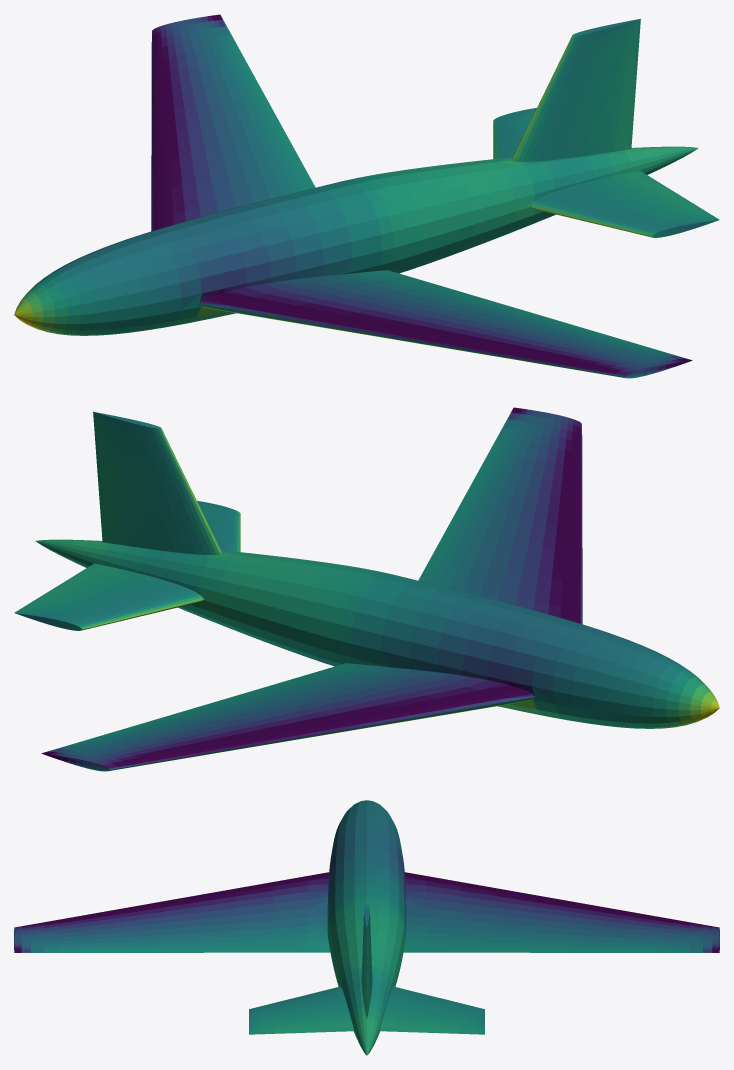
The model's file is case_5.glb.
The picture shows the model from 3 angles, top to bottom: view 1: azimuth 30°, elevation 25°; view 2: azimuth 150°, elevation 25°; view 3: azimuth 270°, elevation 25°; orthographic projection. The views are drawn at different scales.
Visible parts, largest first — view 1: Shape_IndexedFaceSet; view 2: Shape_IndexedFaceSet; view 3: Shape_IndexedFaceSet.
Boxes of the visible parts, x1,y1,x2,y2 form: Shape_IndexedFaceSet: (14,14,719,378); Shape_IndexedFaceSet: (14,407,719,771); Shape_IndexedFaceSet: (14,800,719,1055).
Bounding box in the file's own units: 10 × 2.67 × 11.96.
